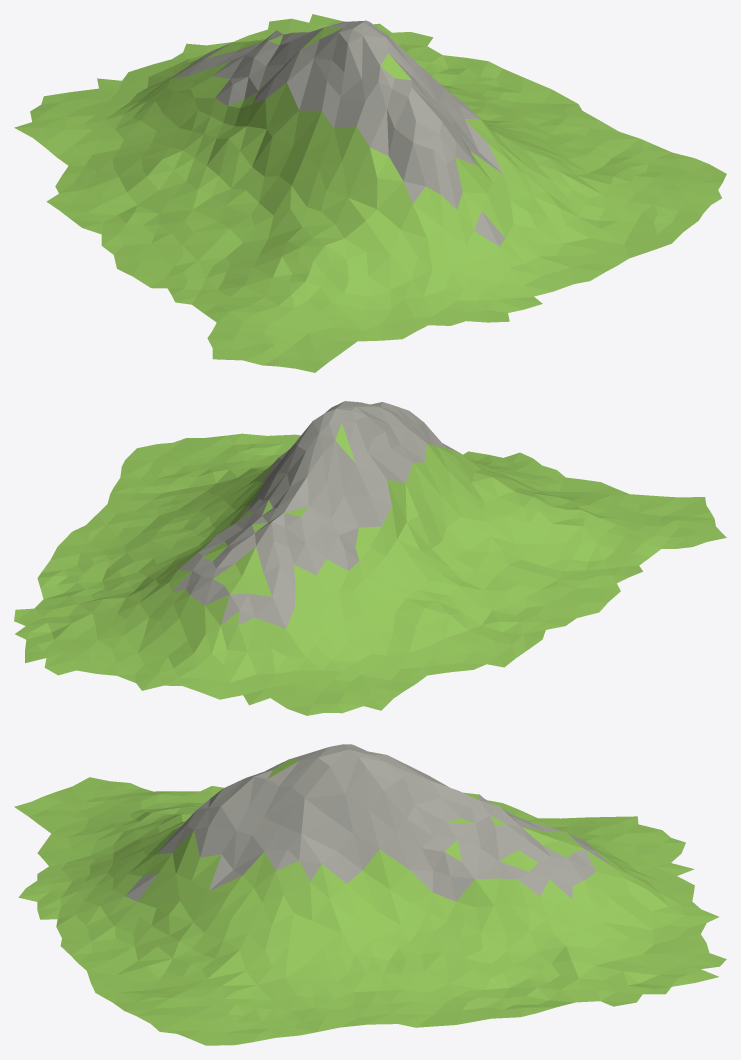
The model's file is mountain_l_a_30.glb.
The picture shows the model from 3 angles, top to bottom: view 1: azimuth 30°, elevation 25°; view 2: azimuth 150°, elevation 25°; view 3: azimuth 270°, elevation 25°; orthographic projection. The views are drawn at different scales.
Parts seen in each view (by area): view 1: CPT_Mountain_L_a_30; view 2: CPT_Mountain_L_a_30; view 3: CPT_Mountain_L_a_30.
Part boxes in pixels (x1,y1,x2,y2): CPT_Mountain_L_a_30: (14, 14, 726, 372); CPT_Mountain_L_a_30: (14, 401, 726, 715); CPT_Mountain_L_a_30: (14, 744, 726, 1045).
Bounding box in the file's own units: 85.54 × 24.04 × 95.7.
Materials: 1 (1 with a texture image).
